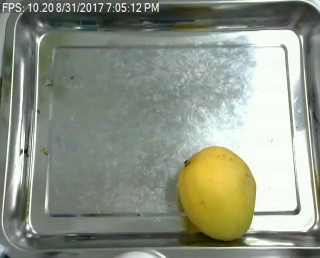Mango: (176, 146, 255, 238)
